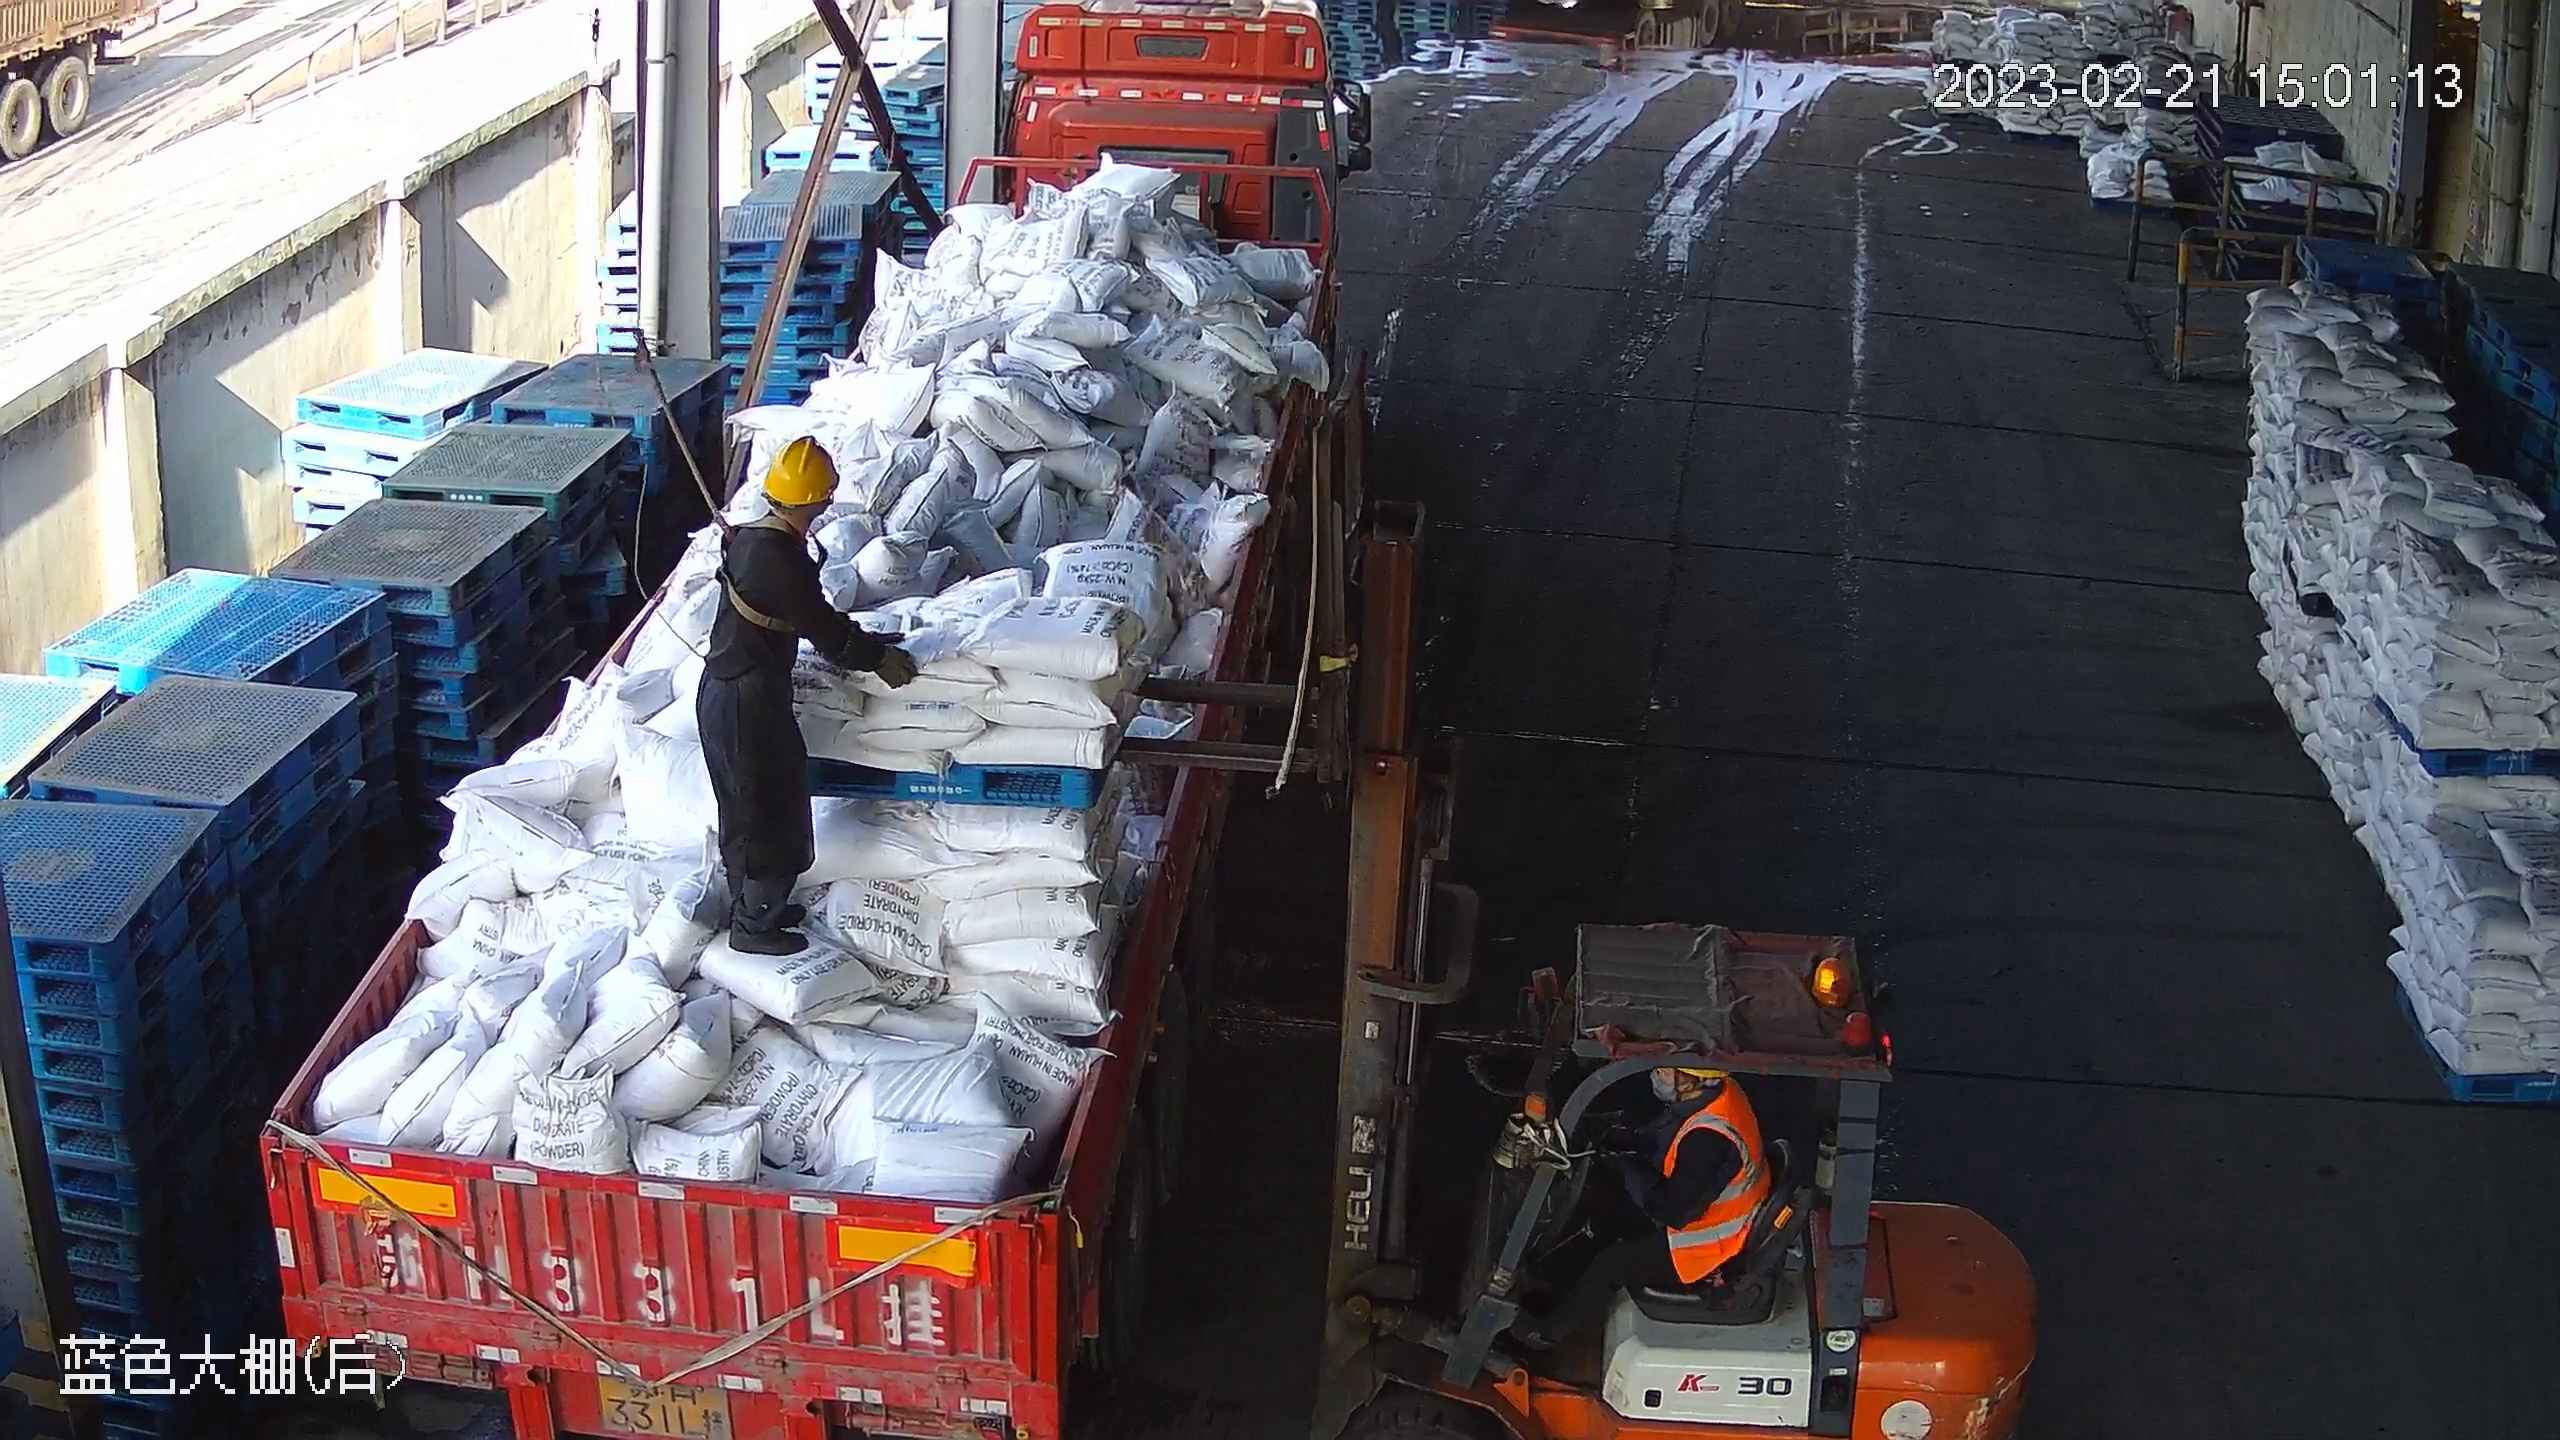belt: (715, 514, 807, 635)
head: (718, 433, 838, 589)
helmet: (763, 433, 839, 506)
people: (694, 433, 921, 956), (1514, 1067, 1773, 1350)
truck: (258, 1, 1369, 1440)
